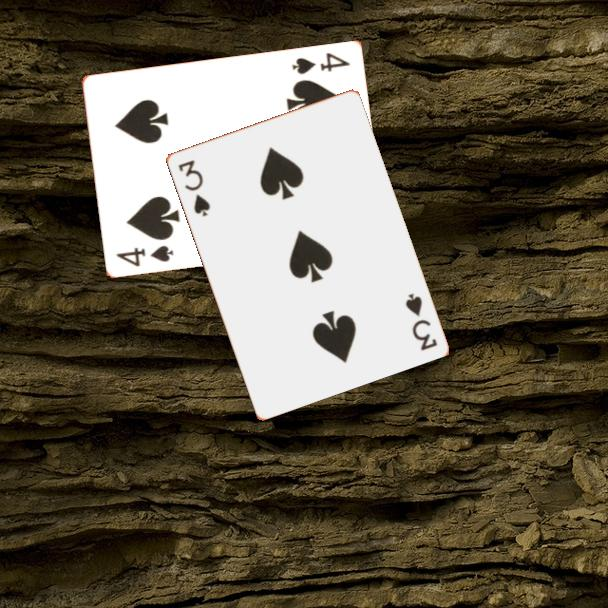s03: (401, 290, 440, 354), (174, 156, 213, 219)
s04: (288, 49, 353, 78), (113, 242, 176, 270)
